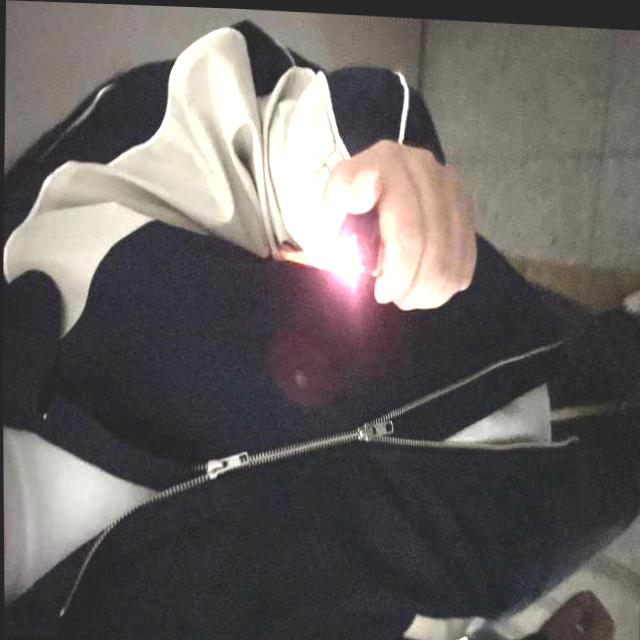Fire: (279, 243, 352, 271)
